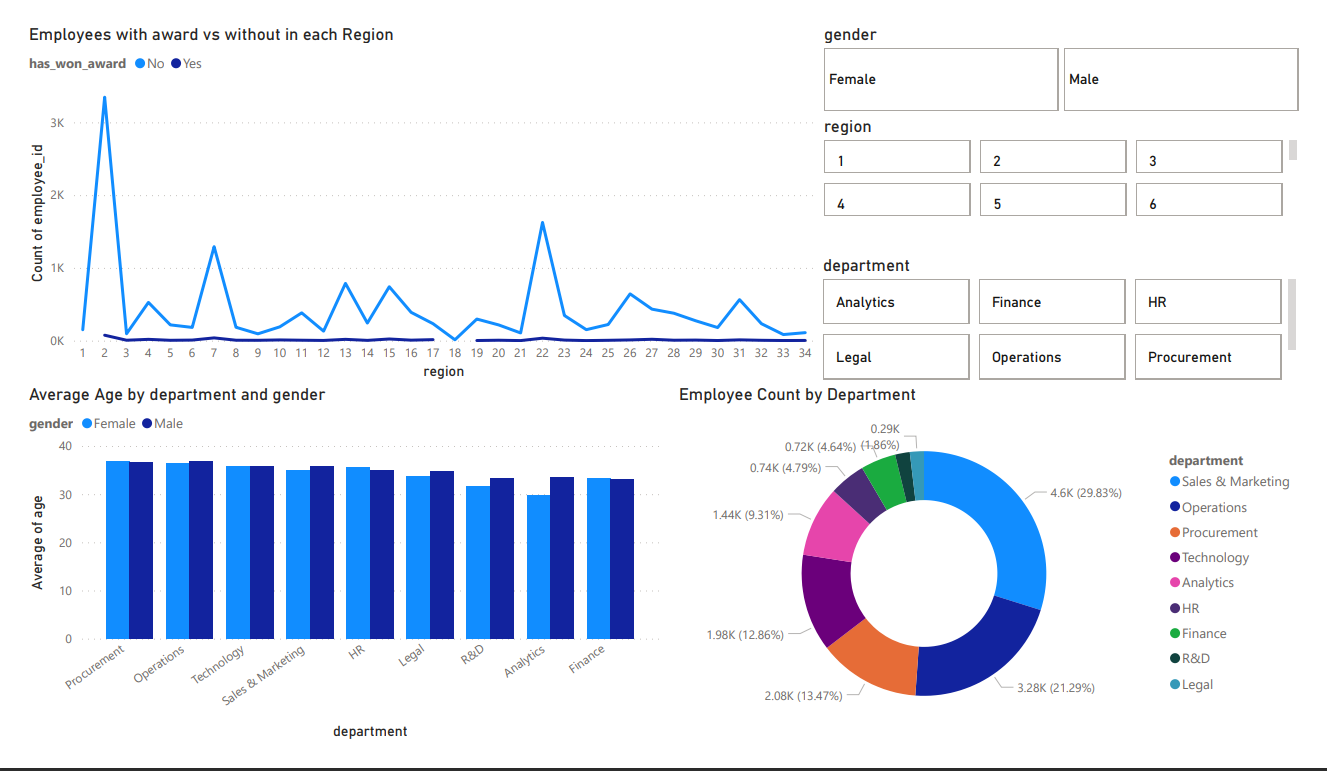

Layout of this report page (visuals, bound fields, positions):
{"tool":"powerbi","page":{"name":"Overall Page","canvas":[1280,720],"ordinal":0},"visuals":[{"type":"clusteredColumnChart","title":"Average Age by department and gender","fields":{"Category":["cleaned_dataset.department"],"Y":["Avg(cleaned_dataset.age)"],"Series":["cleaned_dataset.gender"]},"box":[0,359.9,640,359.9],"z":0},{"type":"lineChart","title":"Employees with award vs without in each Region","fields":{"Category":["cleaned_dataset.region"],"Series":["cleaned_dataset.has_won_award"],"Y":["CountNonNull(cleaned_dataset.employee_id)"]},"box":[0,0,794.7,359.9],"z":1000},{"type":"donutChart","title":"Employee Count by Department","fields":{"Category":["cleaned_dataset.department"],"Y":["CountNonNull(cleaned_dataset.employee_id)"]},"box":[649.7,359.9,630.3,359.9],"z":2000},{"type":"advancedSlicerVisual","fields":{"Values":["cleaned_dataset.gender"]},"box":[793.7,0,486.3,92.4],"z":3000},{"type":"advancedSlicerVisual","fields":{"Values":["cleaned_dataset.region"]},"box":[794.9,92.4,483.4,105],"z":4000},{"type":"advancedSlicerVisual","fields":{"Values":["cleaned_dataset.department"]},"box":[793.7,230.5,483.4,129.4],"z":5000}]}

Visuals, with their boxes on the page's 1280x720 design canvas (x1, y1, x2, y2). These are canvas units, not pixel positions in the 1327x771 screenshot, which may show the page scaled, cropped or inside an application window:
"Average Age by department and gender" clusteredColumnChart: l=0, t=360, r=640, b=720
"Employees with award vs without in each Region" lineChart: l=0, t=0, r=795, b=360
"Employee Count by Department" donutChart: l=650, t=360, r=1280, b=720
advancedSlicerVisual - cleaned_dataset.gender: l=794, t=0, r=1280, b=92
advancedSlicerVisual - cleaned_dataset.region: l=795, t=92, r=1278, b=197
advancedSlicerVisual - cleaned_dataset.department: l=794, t=230, r=1277, b=360
